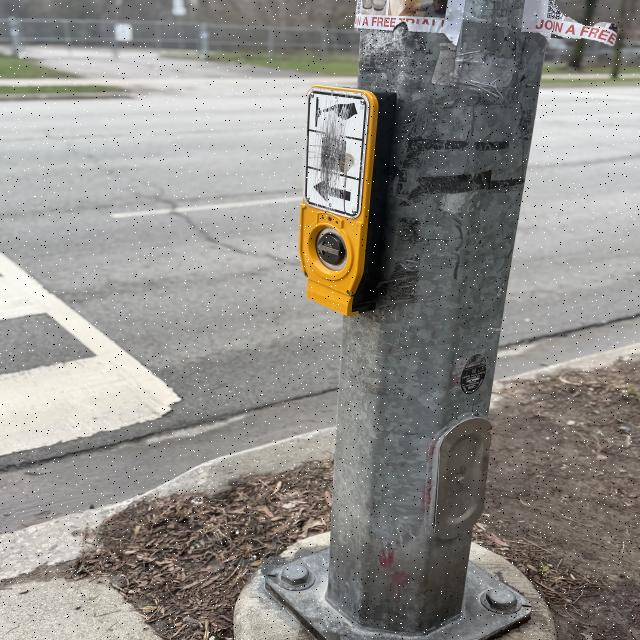Electrical Pole: (263, 42, 559, 639)
